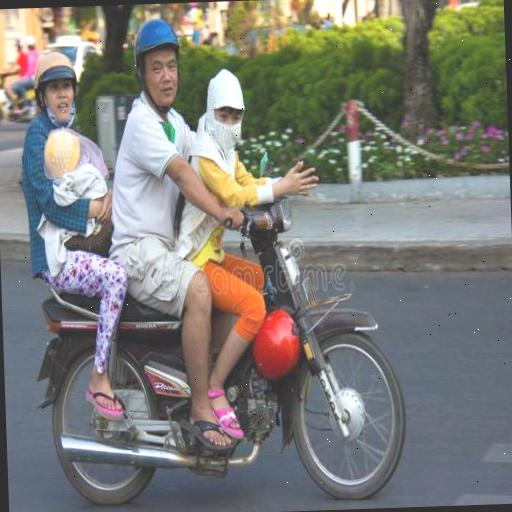helmet: (121, 22, 219, 156)
triple riding: (4, 13, 412, 506)
